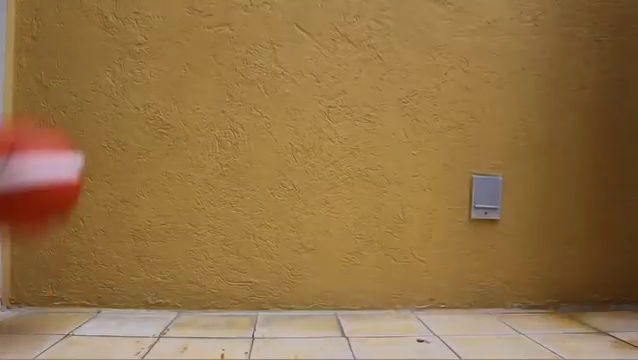ball: (2, 115, 86, 240)
